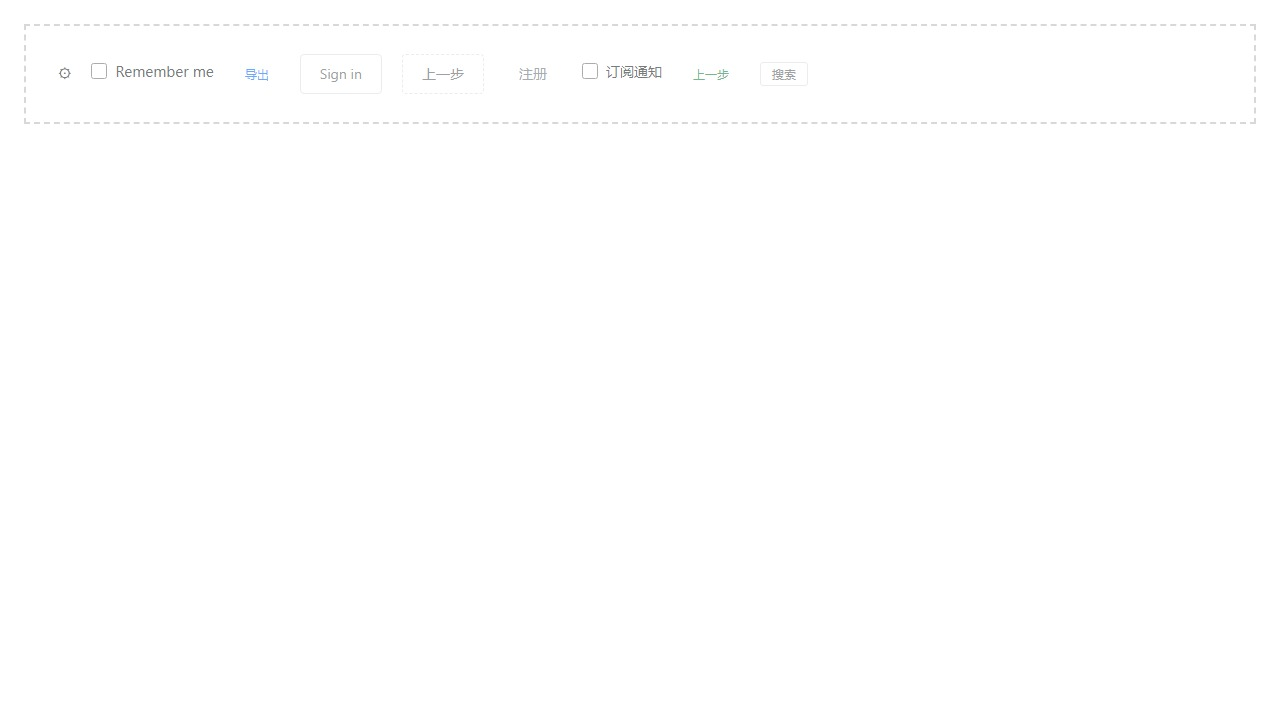button: (300, 54, 382, 94), (402, 54, 484, 94), (504, 59, 562, 89), (682, 63, 740, 85), (760, 62, 808, 86), (234, 63, 280, 85)
checkbox: (91, 63, 107, 79), (582, 63, 598, 79)
icon: (115, 61, 214, 80), (606, 61, 662, 80), (58, 65, 71, 81)
modal: (24, 24, 1256, 124)
radio: (91, 61, 214, 80), (582, 61, 662, 80)
